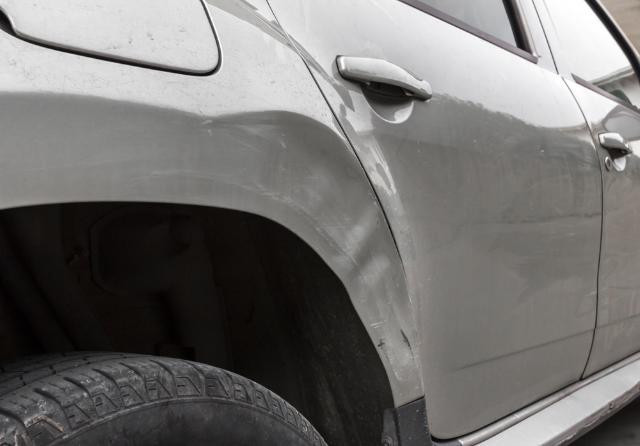dent: (184, 111, 423, 378)
